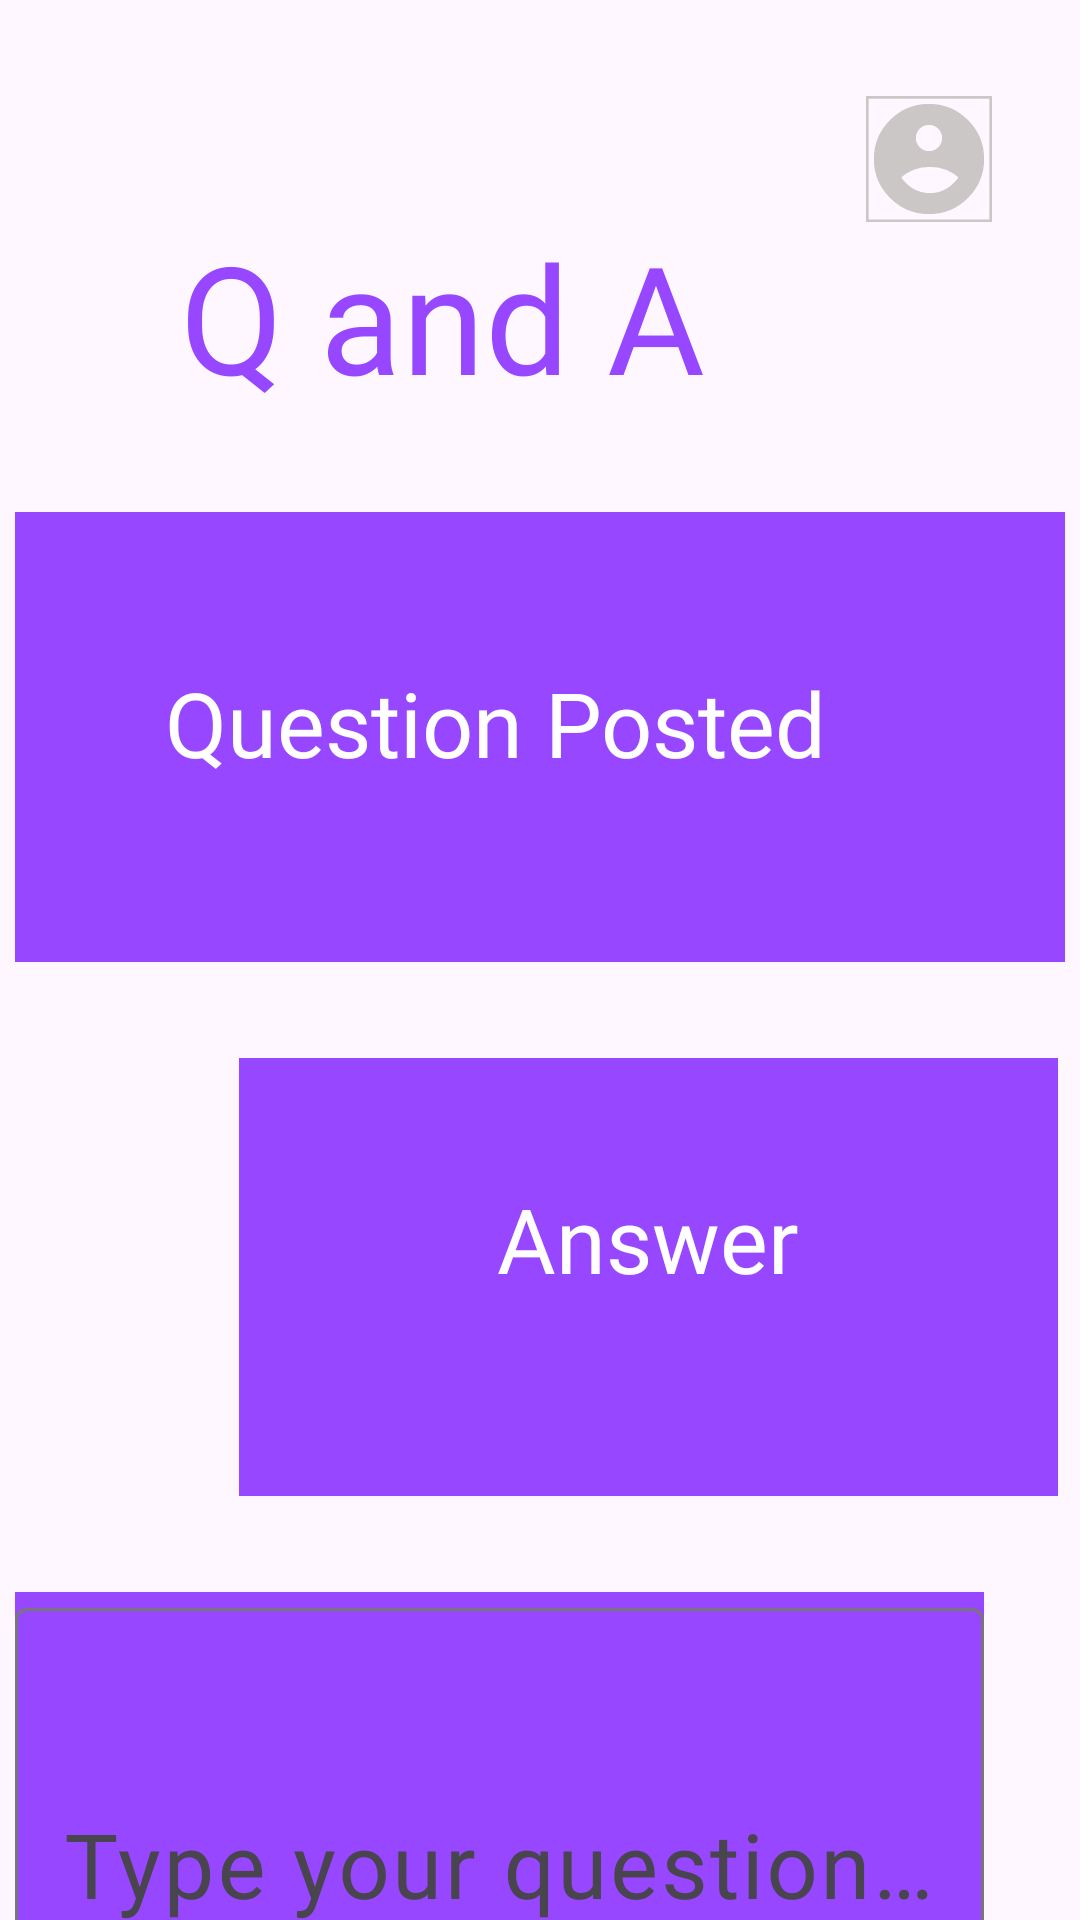

Icon click points for this 1080w x 1920h phone screenshot, format (x=x, y=y):
account circle: (x=929, y=159)
